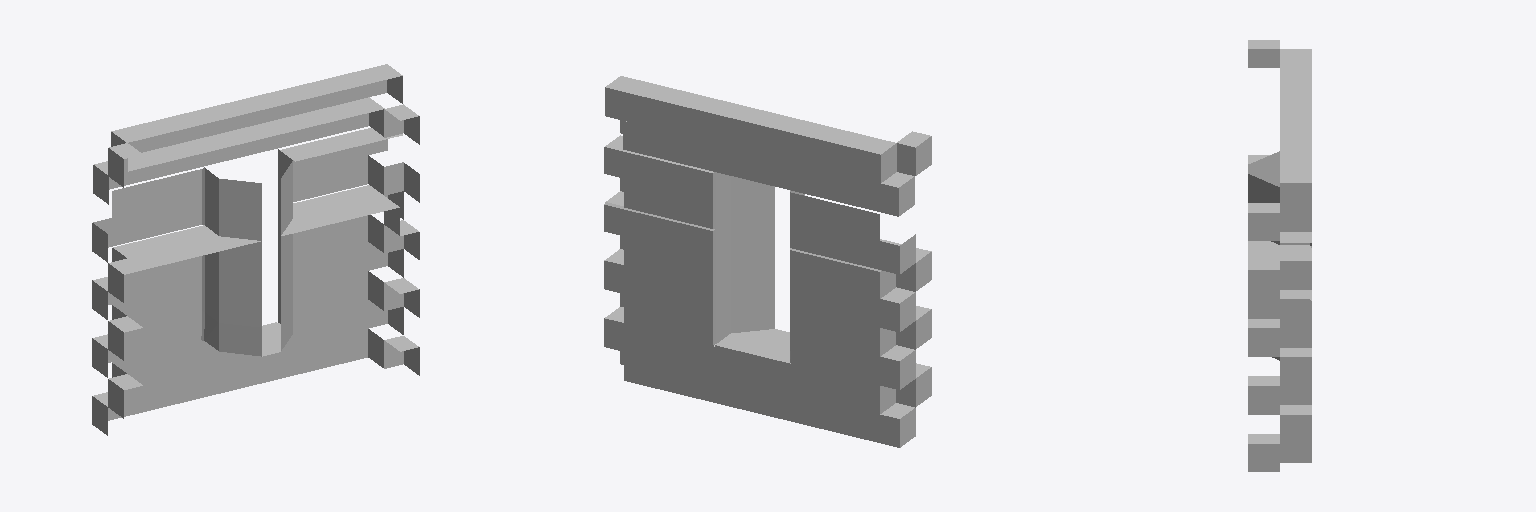
File: Middle Slot.obj
The picture shows the model from 3 angles: view 1: azimuth 30°, elevation 25°; view 2: azimuth 150°, elevation 25°; view 3: azimuth 270°, elevation 25°; orthographic projection.
Parts seen in each view (by area): view 1: Top_Slot_0_Intact.002; view 2: Top_Slot_0_Intact.002; view 3: Top_Slot_0_Intact.002.
Part boxes in pixels (bbox=[...]): Top_Slot_0_Intact.002: bbox=[92, 64, 419, 435]; Top_Slot_0_Intact.002: bbox=[604, 76, 931, 447]; Top_Slot_0_Intact.002: bbox=[1248, 40, 1311, 471].
Size of the model in its own units: 1.6 by 1.5 by 0.3.